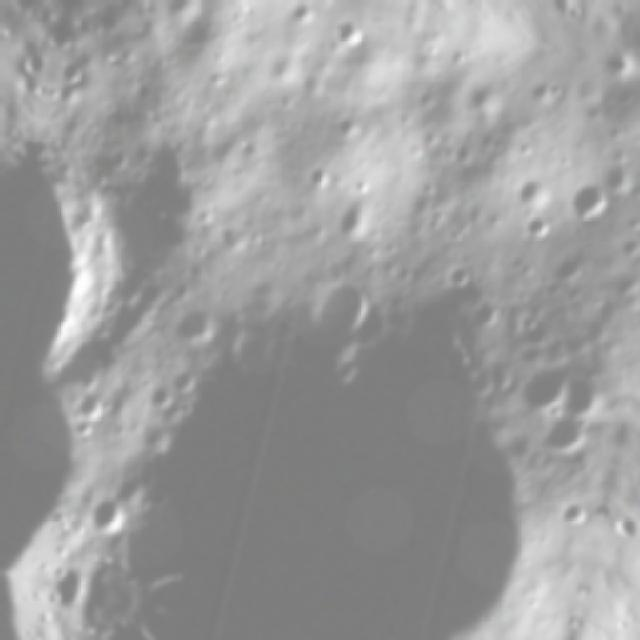crater: (94, 212, 611, 640), (0, 107, 172, 395), (492, 342, 585, 426), (304, 268, 381, 348), (158, 289, 230, 360), (531, 400, 603, 465), (554, 358, 620, 428), (556, 172, 622, 234), (77, 484, 135, 547), (321, 5, 377, 56), (507, 167, 558, 218), (516, 203, 559, 248), (324, 102, 367, 144), (73, 381, 113, 425), (556, 492, 598, 533), (590, 58, 639, 82)
